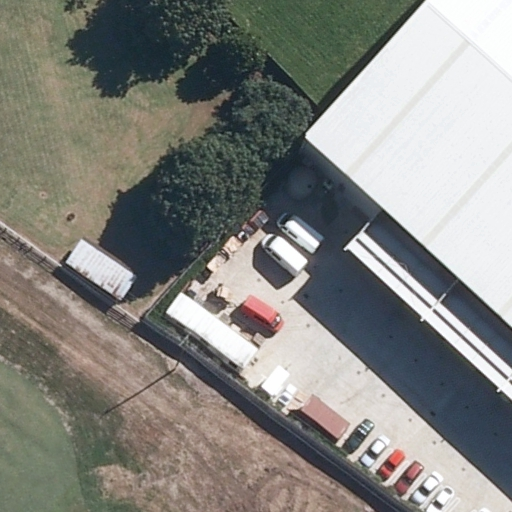DT: (177, 331, 195, 363)
